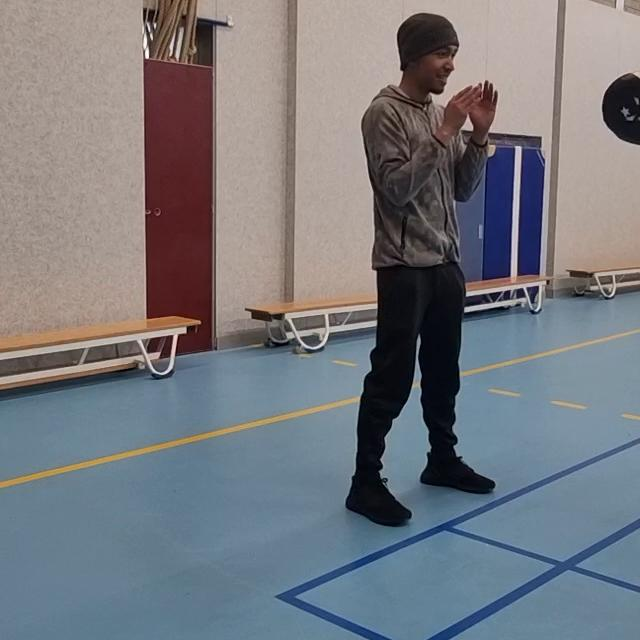paddle: (600, 66, 640, 156)
